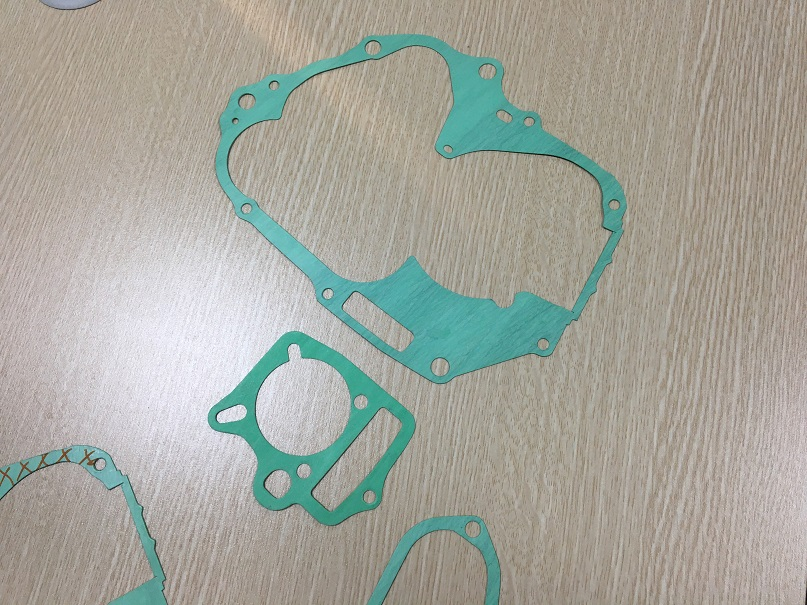type3: (208, 28, 630, 385)
type4: (195, 327, 421, 528)
